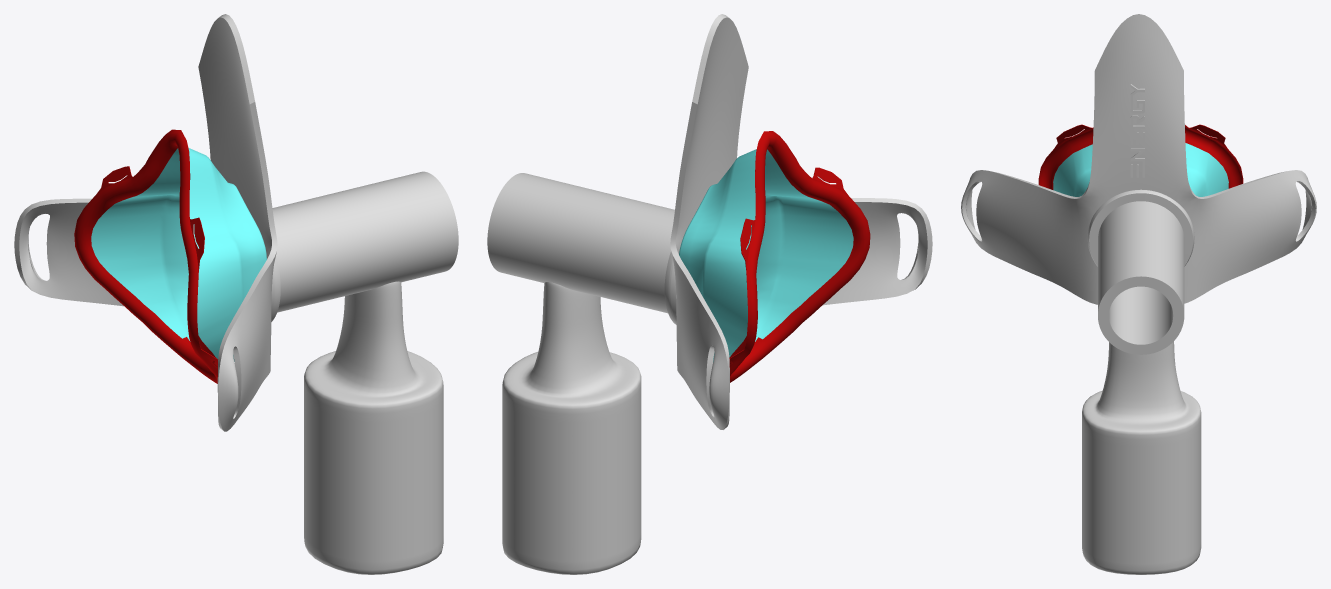
Rendered from mascara.fbx.
3 views of the same model, side by side, from view 1: azimuth 30°, elevation 25°; view 2: azimuth 150°, elevation 25°; view 3: azimuth 270°, elevation 25° (orthographic). The views are drawn at different scales.
Parts seen in each view (by area): view 1: Plane001; view 2: Plane001; view 3: Plane001.
Part boxes in pixels (box(x1,y1,x2,y2)): Plane001: box(14, 14, 458, 574); Plane001: box(487, 14, 932, 574); Plane001: box(961, 14, 1316, 574).
Bounding box in the file's own units: 158 × 270 × 181.
